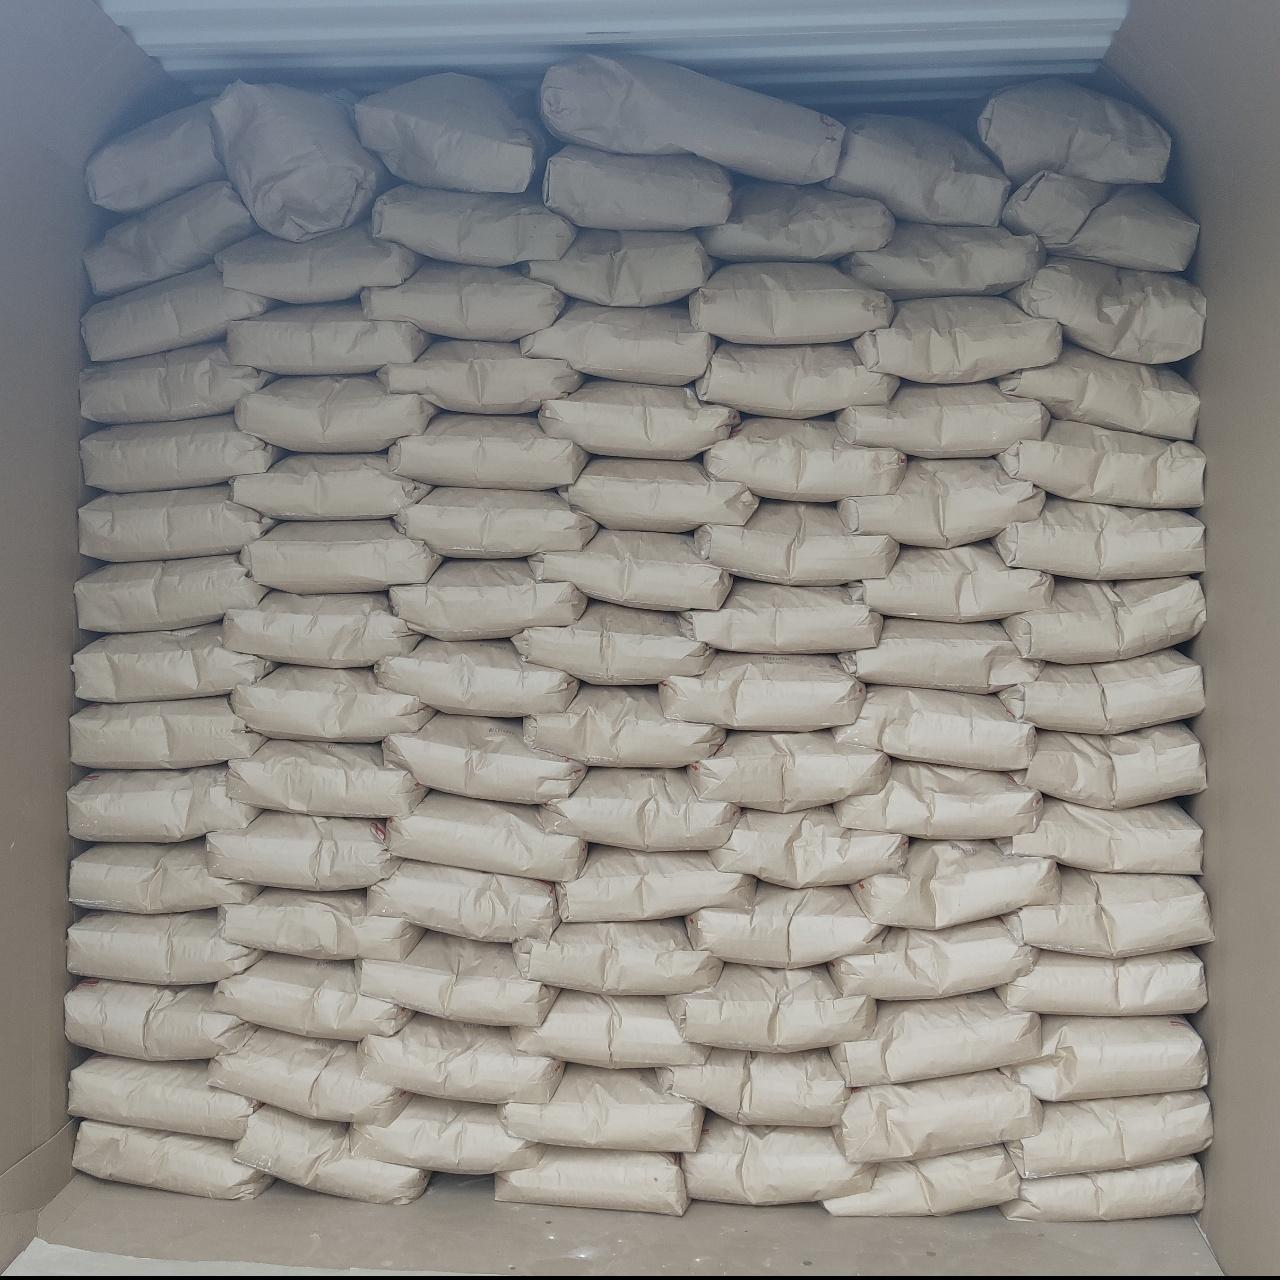sack: (540, 56, 838, 182), (212, 81, 384, 240), (358, 74, 546, 190), (1008, 258, 1204, 360), (1000, 170, 1196, 270), (826, 116, 1010, 222), (976, 82, 1170, 182), (86, 182, 258, 294), (832, 992, 1038, 1084), (1000, 344, 1198, 438), (998, 420, 1204, 508), (356, 932, 556, 1022), (1006, 868, 1210, 956), (360, 1014, 562, 1102), (836, 1070, 1038, 1158), (82, 264, 270, 358), (210, 1028, 406, 1118), (852, 840, 1056, 926), (384, 714, 582, 802), (236, 1108, 428, 1198), (856, 298, 1060, 382), (504, 1064, 702, 1150), (668, 964, 874, 1046), (1004, 578, 1204, 662), (994, 498, 1204, 578), (684, 1114, 870, 1204), (1002, 1018, 1206, 1100), (388, 792, 582, 878), (1000, 650, 1202, 732), (840, 460, 1042, 542), (1008, 1092, 1210, 1174), (214, 954, 408, 1038), (836, 686, 1034, 768), (706, 418, 902, 500), (514, 602, 710, 684), (696, 502, 896, 582), (832, 920, 1036, 998), (524, 686, 722, 766), (690, 264, 892, 342), (362, 262, 564, 340), (218, 224, 420, 302), (522, 300, 714, 382), (700, 178, 892, 260), (688, 884, 880, 966), (374, 184, 574, 262), (86, 101, 227, 211), (532, 530, 730, 608), (544, 146, 732, 228), (1016, 724, 1204, 806), (836, 762, 1038, 838), (850, 544, 1052, 620), (76, 624, 272, 702), (82, 414, 282, 490), (376, 640, 576, 716), (80, 342, 270, 422), (712, 808, 906, 886), (836, 382, 1046, 454), (70, 1056, 254, 1138), (1000, 798, 1198, 874), (368, 860, 556, 940), (660, 652, 862, 726), (514, 920, 720, 992), (392, 560, 582, 638), (514, 990, 704, 1068), (542, 770, 736, 846), (76, 1122, 270, 1198), (66, 980, 250, 1060), (232, 666, 430, 740), (380, 340, 582, 412), (540, 380, 736, 454), (228, 740, 424, 814), (690, 732, 886, 806), (76, 554, 266, 630), (350, 1096, 540, 1172), (236, 376, 436, 448), (228, 300, 428, 372), (696, 342, 896, 414), (842, 224, 1042, 296), (562, 458, 756, 532), (840, 620, 1038, 692), (680, 580, 878, 652), (80, 484, 272, 558), (558, 846, 754, 918), (226, 592, 420, 664), (390, 414, 584, 486), (208, 812, 396, 886), (658, 1050, 846, 1124), (242, 520, 438, 590), (70, 910, 260, 982), (220, 890, 420, 958), (396, 488, 596, 556), (524, 230, 712, 302), (70, 766, 256, 838), (824, 1146, 1018, 1214), (998, 950, 1204, 1014), (70, 840, 258, 910), (72, 698, 262, 766), (232, 454, 428, 518), (496, 1148, 686, 1214), (1002, 1158, 1202, 1220)
